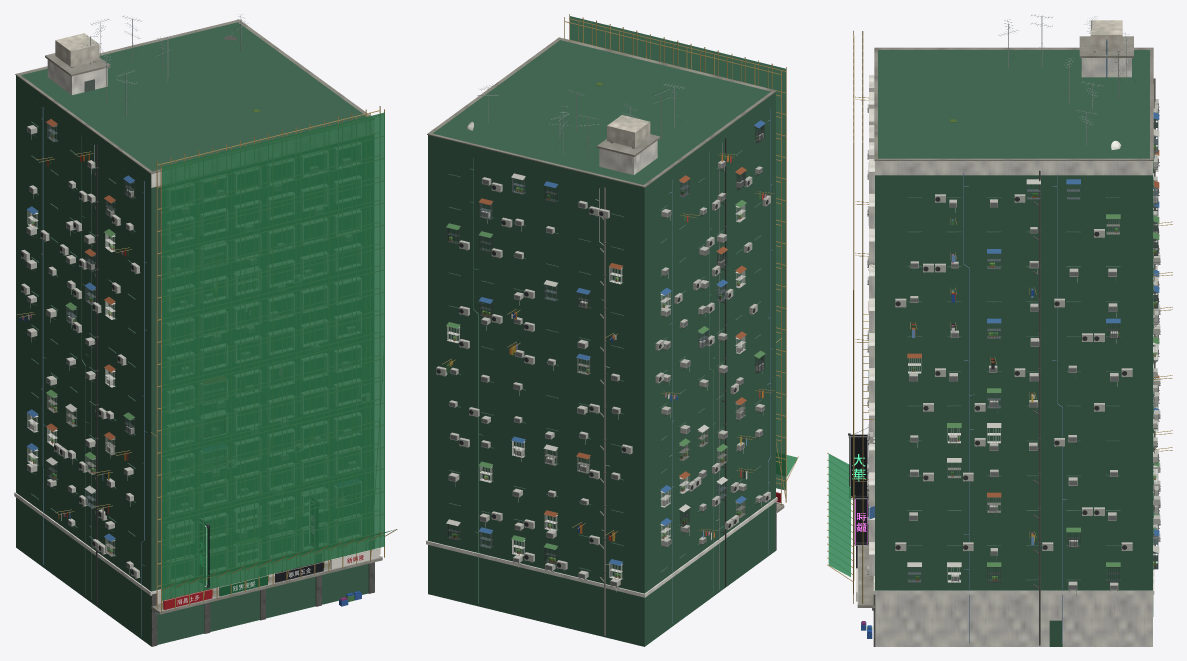
The model's file is mosaic-tower.glb.
3 views of the same model, side by side, from view 1: azimuth 30°, elevation 25°; view 2: azimuth 150°, elevation 25°; view 3: azimuth 270°, elevation 25° (orthographic). The views are drawn at different scales.
Visible parts, largest first — view 1: Scaffold_net, LOD_vc, Building_metal, Building_vc, Building_ac, Building_slab, Scaffold_bamboo, Building_hood, Building_board, Building_tank, Building_granite, Building_wall; view 2: LOD_vc, Building_metal, Scaffold_net, Building_vc, Building_ac, Scaffold_bamboo, Building_slab, Building_hood, Building_wall, Building_tank; view 3: LOD_vc, Building_hood, Building_metal, Building_ac, Building_vc, Building_slab, Scaffold_net, Scaffold_bamboo, Building_board, Building_wall, Building_tank, Building_bamboo.
Part boxes in pixels (left/top/right/bottom): Scaffold_net: left=162, top=112, right=394, bottom=600; LOD_vc: left=16, top=22, right=368, bottom=645; Building_metal: left=21, top=14, right=382, bottom=612; Building_vc: left=19, top=35, right=361, bottom=636; Building_ac: left=21, top=125, right=139, bottom=578; Building_slab: left=15, top=19, right=382, bottom=614; Scaffold_bamboo: left=151, top=106, right=397, bottom=612; Building_hood: left=14, top=59, right=364, bottom=604; Building_board: left=163, top=526, right=379, bottom=609; Building_tank: left=55, top=33, right=99, bottom=66; Building_granite: left=151, top=549, right=374, bottom=646; Building_wall: left=31, top=121, right=135, bottom=556; LOD_vc: left=428, top=40, right=775, bottom=646; Building_metal: left=436, top=84, right=783, bottom=587; Scaffold_net: left=570, top=16, right=797, bottom=490; Building_vc: left=446, top=82, right=772, bottom=635; Building_ac: left=436, top=133, right=770, bottom=586; Scaffold_bamboo: left=564, top=14, right=798, bottom=505; Building_slab: left=427, top=37, right=784, bottom=513; Building_hood: left=426, top=140, right=777, bottom=597; Building_wall: left=448, top=140, right=761, bottom=579; Building_tank: left=607, top=115, right=650, bottom=147; LOD_vc: left=875, top=50, right=1152, bottom=646; Building_hood: left=869, top=58, right=1154, bottom=646; Building_metal: left=848, top=14, right=1160, bottom=610; Building_ac: left=867, top=99, right=1160, bottom=590; Building_vc: left=861, top=39, right=1159, bottom=645; Building_slab: left=857, top=36, right=1153, bottom=607; Scaffold_net: left=828, top=454, right=850, bottom=576; Scaffold_bamboo: left=827, top=30, right=874, bottom=603; Building_board: left=849, top=434, right=868, bottom=601; Building_wall: left=907, top=167, right=1153, bottom=580; Building_tank: left=1090, top=20, right=1122, bottom=51; Building_bamboo: left=855, top=96, right=1172, bottom=538.
Bounding box in the file's own units: 23.01 × 44.75 × 26.12.
21 materials, 8 textured.
